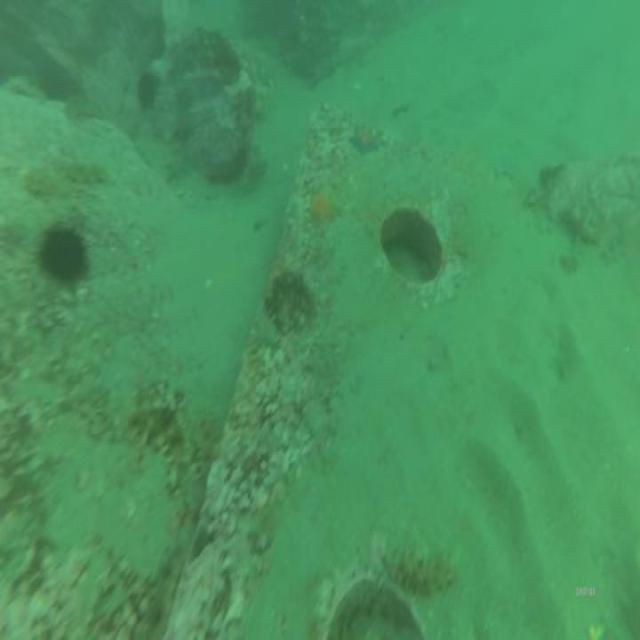echinus: (37, 221, 87, 288), (133, 66, 161, 112)
holothurian: (380, 539, 458, 597), (126, 392, 188, 461), (262, 262, 318, 314), (59, 155, 109, 186), (22, 162, 59, 200)
starfish: (305, 185, 343, 232), (348, 117, 382, 161)
